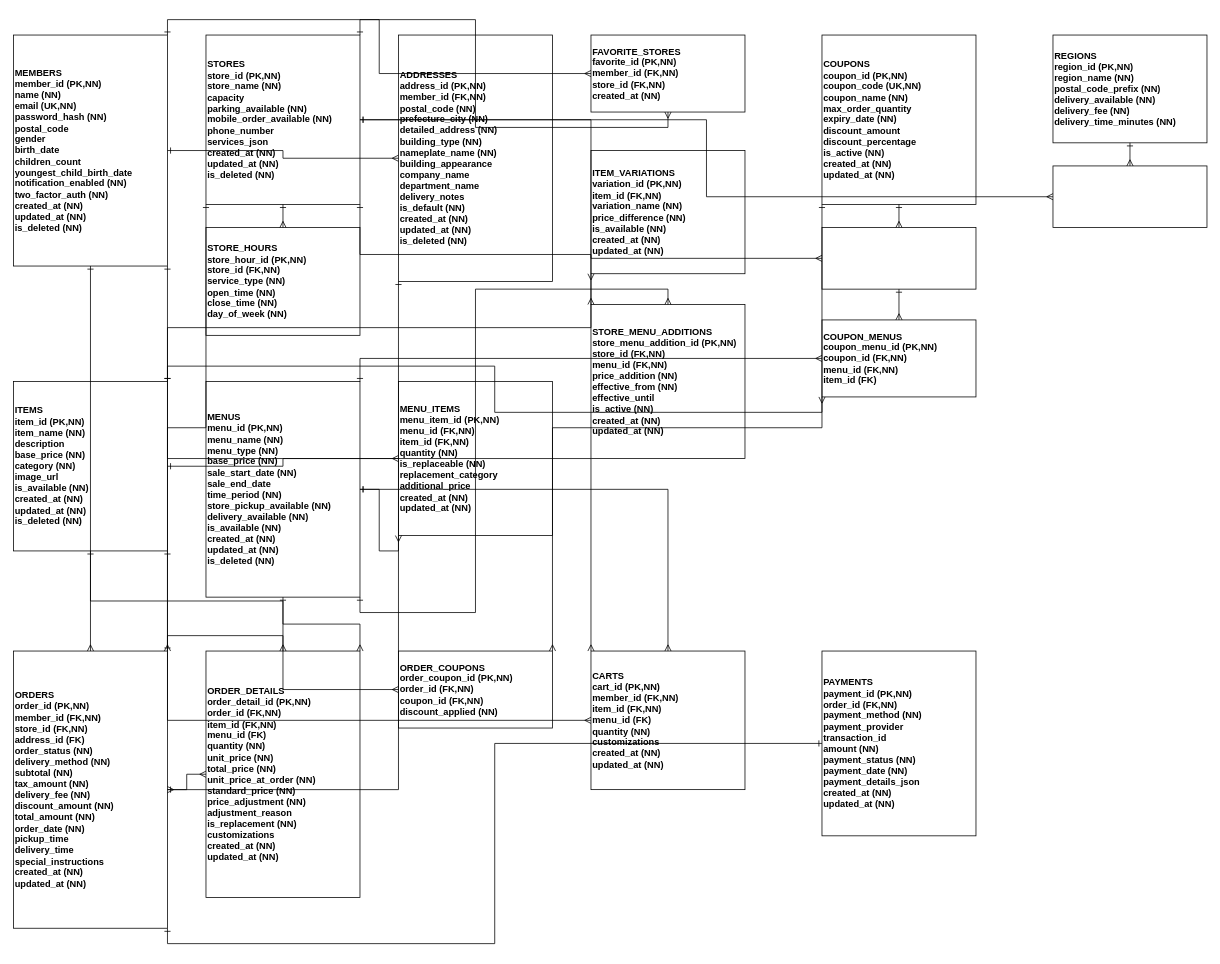
The diagram is 1220 pixels wide and 964 high, and some of its shapes have lost their labels. Here are the shapes that lost their labels. From the top down, the centre of each, then its label:
At [1129,196]: "STORE_REGIONS store_region_id (PK,NN) store_id (FK,NN) region_id (FK,NN)".
At [898,258]: "COUPON_STORES coupon_store_id (PK,NN) coupon_id (FK,NN) store_id (FK,NN)".
